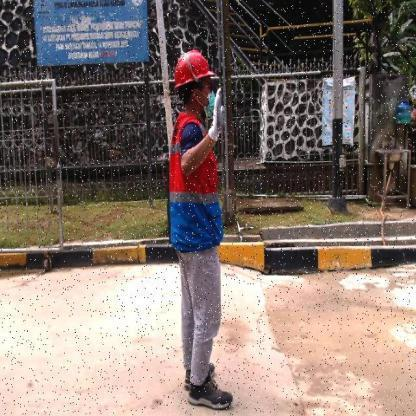boots: (190, 374, 234, 412), (178, 356, 217, 388)
gloves: (207, 89, 227, 146)
helmet: (172, 47, 214, 87)
mask: (194, 88, 218, 119)
